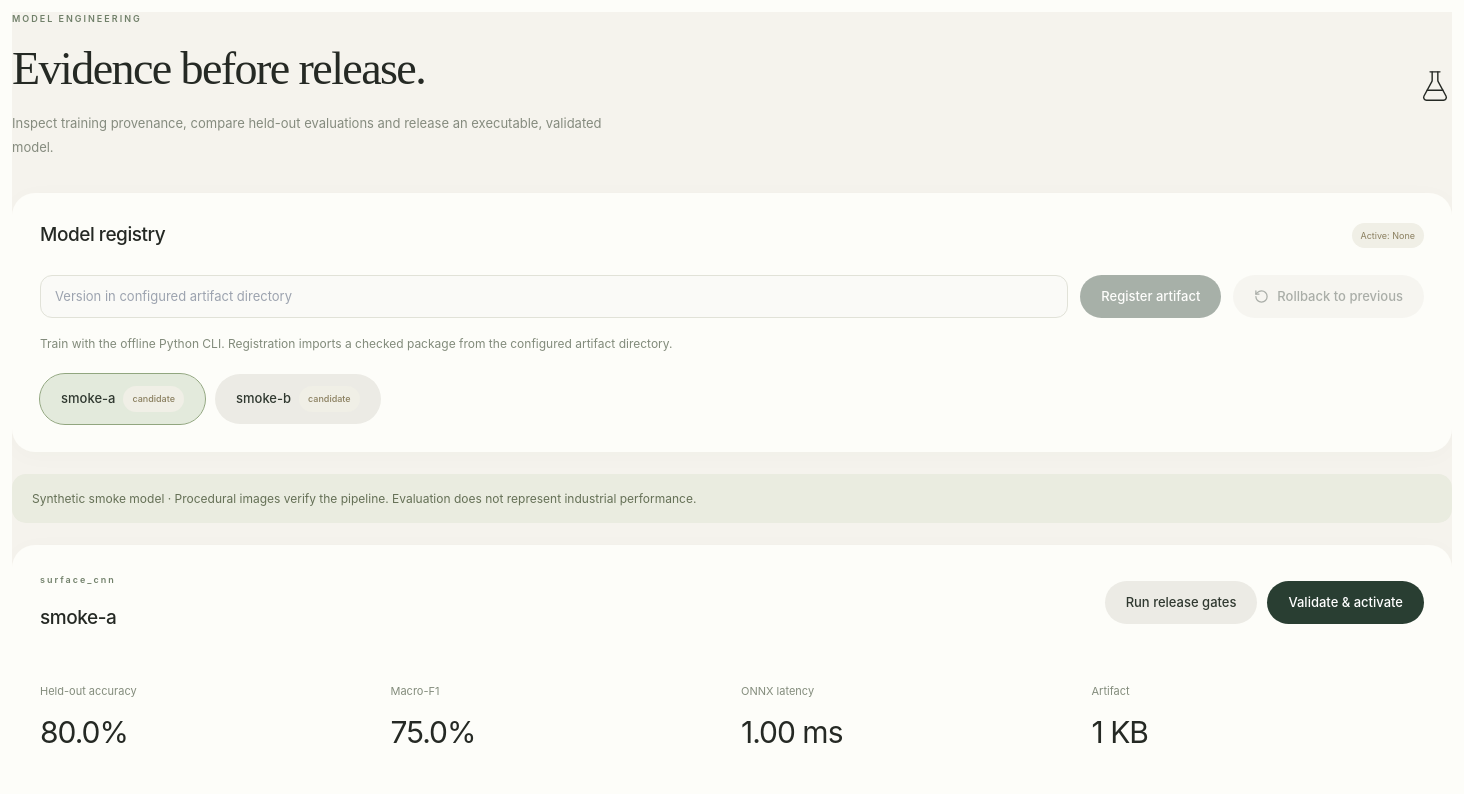
Test: Model Lab › selects a version and exposes real evaluation plus release gates
This screenshot has width=1464, height=794.
Check: the text "75.0%" is shown, box [390,714,476,750]
Click the button "smoke-b candidate" at (298, 399), box [215,374,381,424]
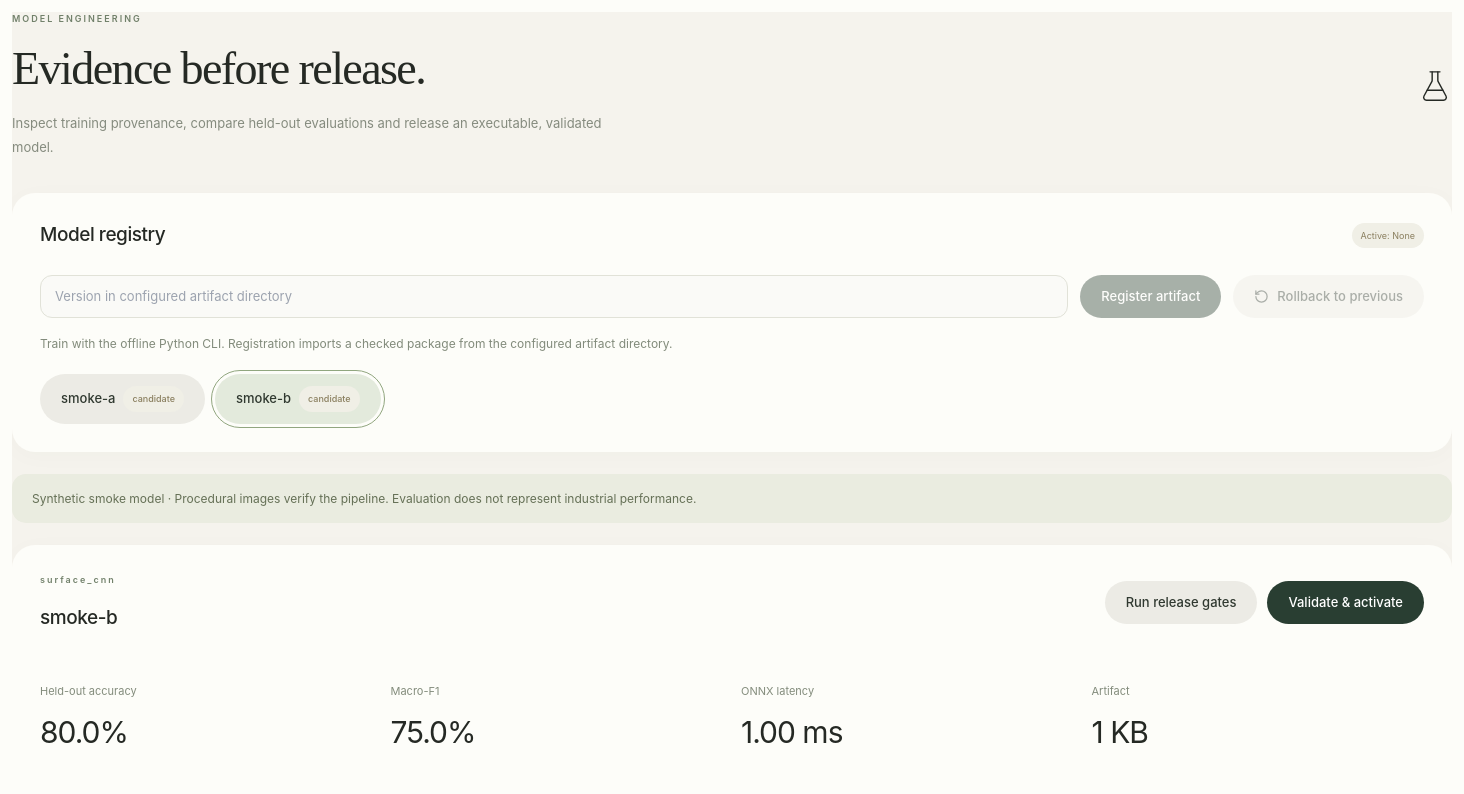
Click the button "Run release gates" at (1181, 602), box [1105,581,1257,624]
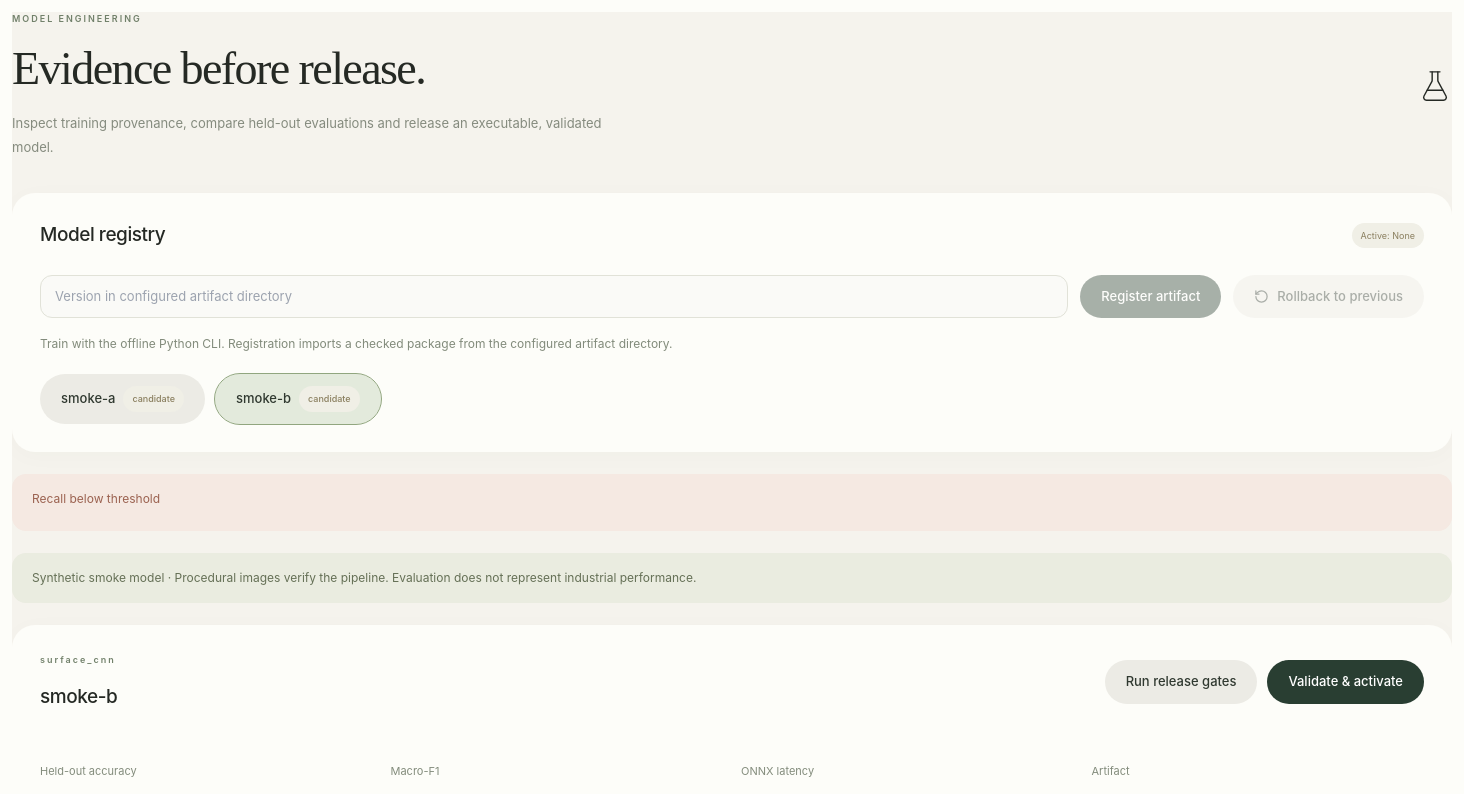
Check: the message reads "Recall below threshold", box [32,490,160,506]
